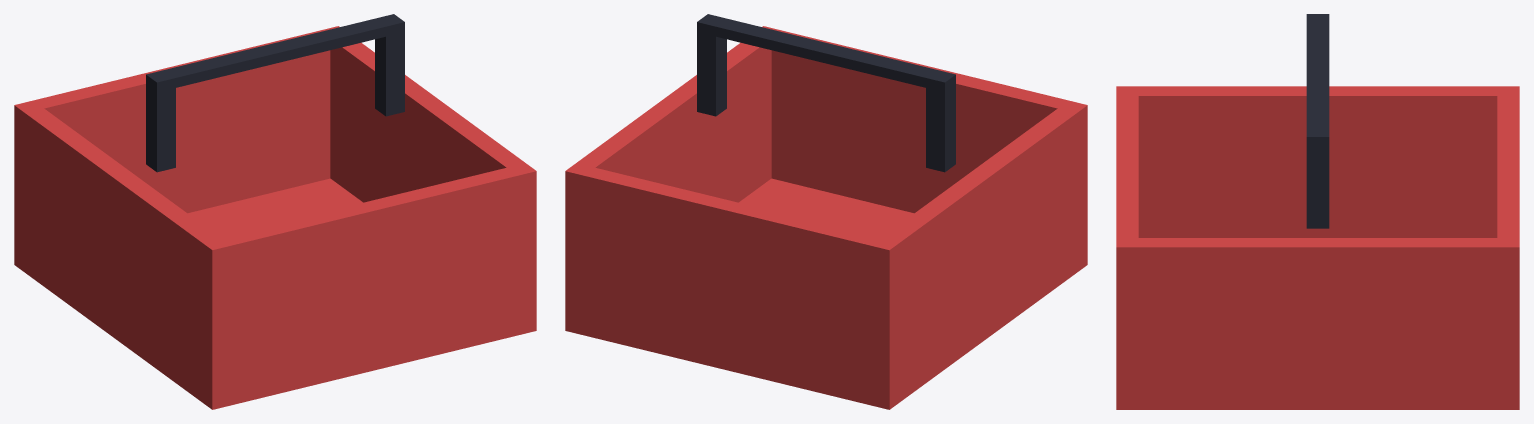
File: shopping-basket.glb
3 views of the same model, side by side, from view 1: azimuth 30°, elevation 25°; view 2: azimuth 150°, elevation 25°; view 3: azimuth 270°, elevation 25° (orthographic).
Parts seen in each view (by area): view 1: shopping-basket; view 2: shopping-basket; view 3: shopping-basket.
Part boxes in pixels (left/top/right/bottom): shopping-basket: left=14, top=14, right=536, bottom=409; shopping-basket: left=565, top=14, right=1087, bottom=409; shopping-basket: left=1116, top=14, right=1519, bottom=409.
Size of the model in its own units: 0.34 by 0.25 by 0.36.
1 material, 1 textured.
